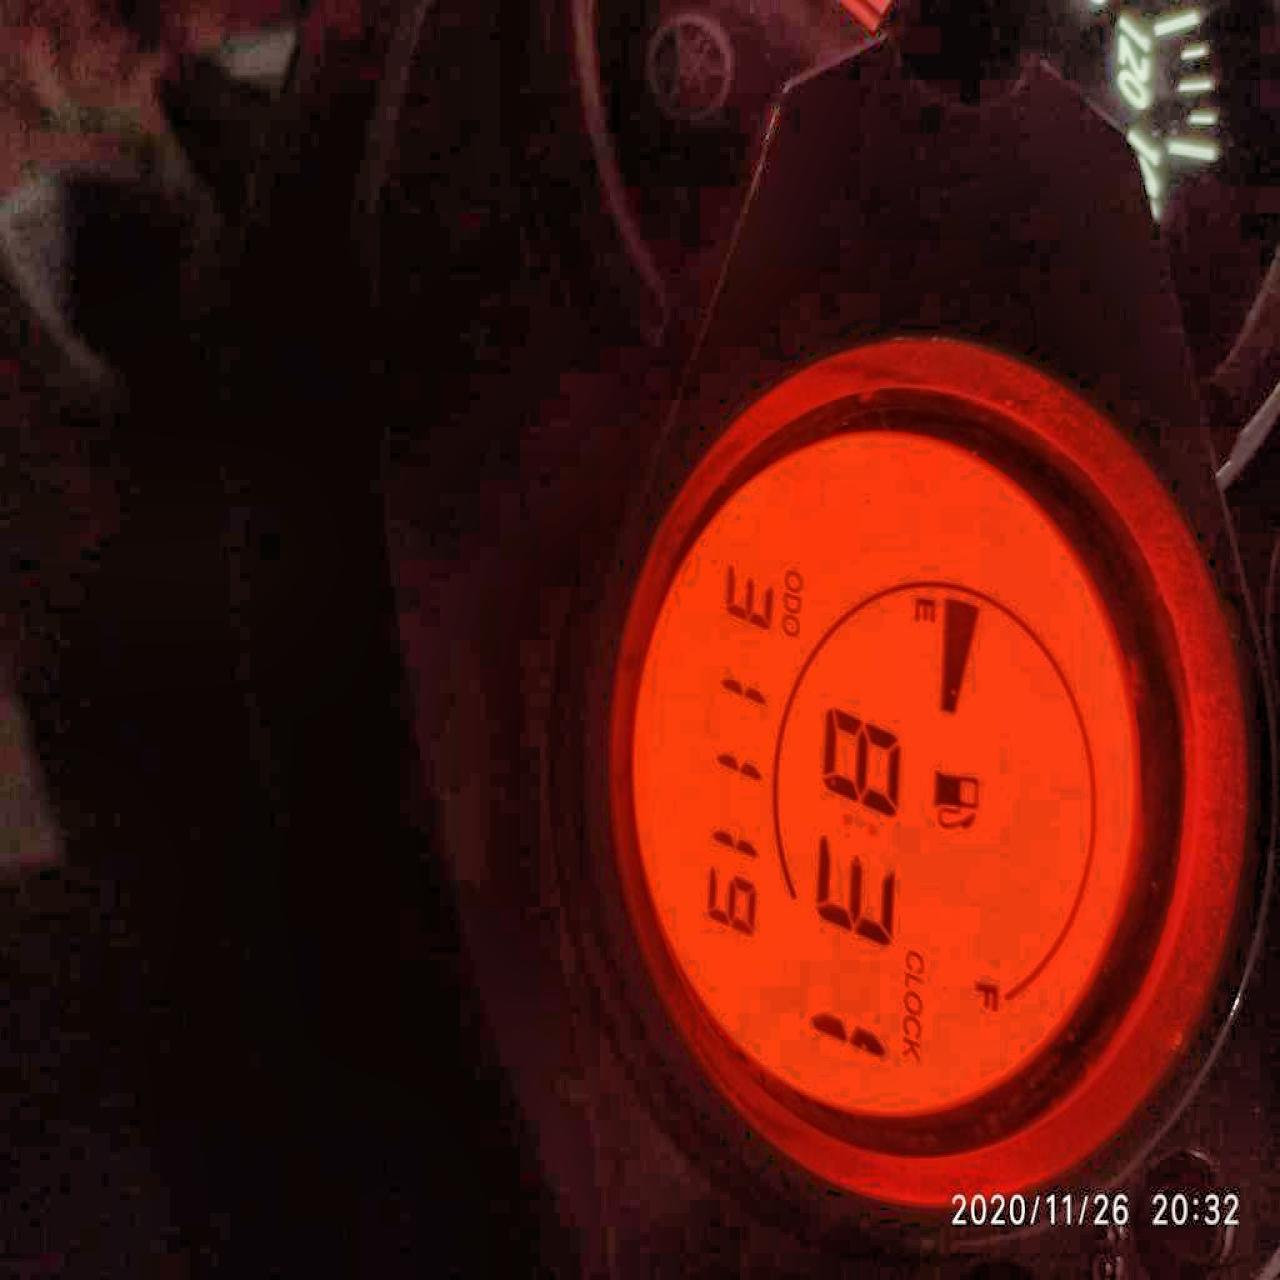1: (810, 1008, 885, 1057), (712, 826, 756, 857), (715, 751, 761, 781), (720, 675, 765, 704)
3: (815, 835, 894, 944), (726, 564, 772, 628)
8: (821, 704, 900, 815)
9: (707, 865, 754, 935)
X: (974, 980, 998, 1010), (914, 595, 935, 621), (904, 948, 924, 974), (779, 613, 799, 636), (903, 989, 921, 1013), (901, 1035, 920, 1058), (903, 1015, 920, 1036), (782, 591, 799, 612), (784, 568, 802, 590), (904, 972, 920, 986)
odometer: (615, 415, 1149, 1141)
